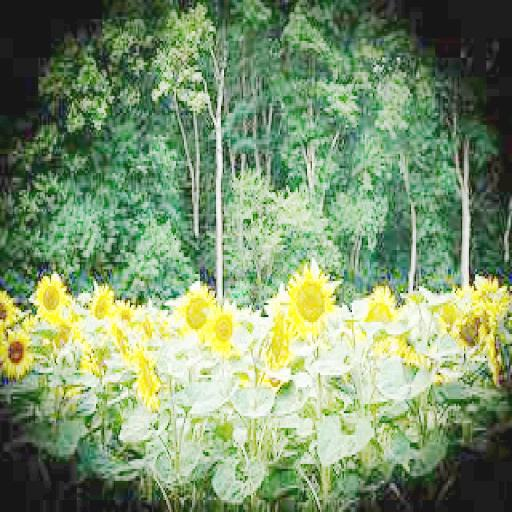sunflower: (282, 269, 339, 339), (179, 284, 219, 336), (34, 274, 68, 325), (205, 306, 240, 354), (357, 286, 400, 325), (2, 330, 32, 378), (136, 361, 162, 406), (90, 281, 114, 327)
